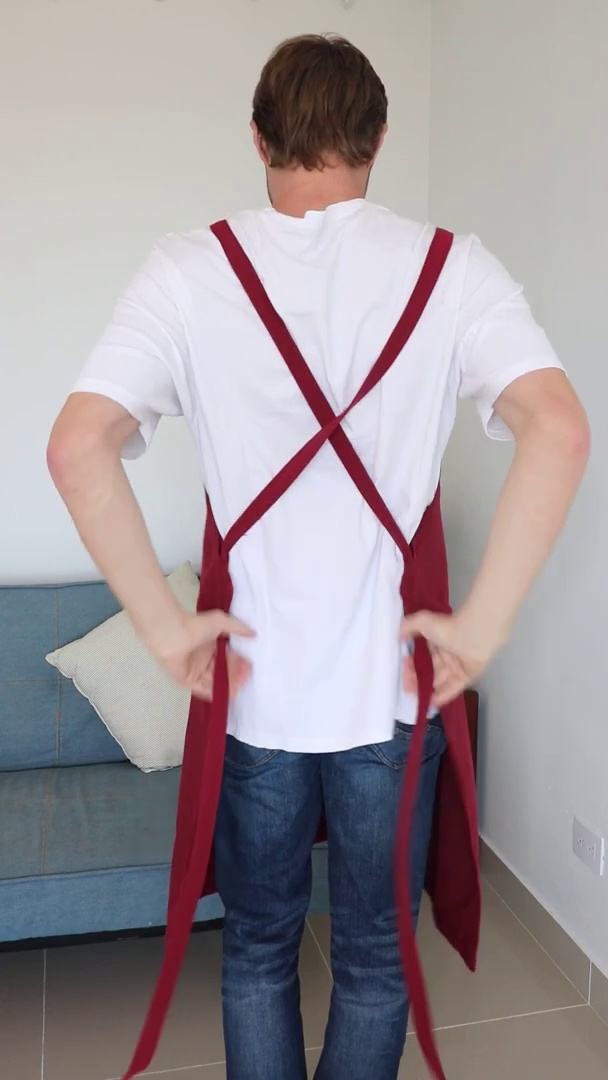Apron: (183, 220, 447, 744)
No_Glove: (393, 608, 492, 719), (143, 610, 259, 699)
No_Hairnet: (237, 27, 390, 163)
